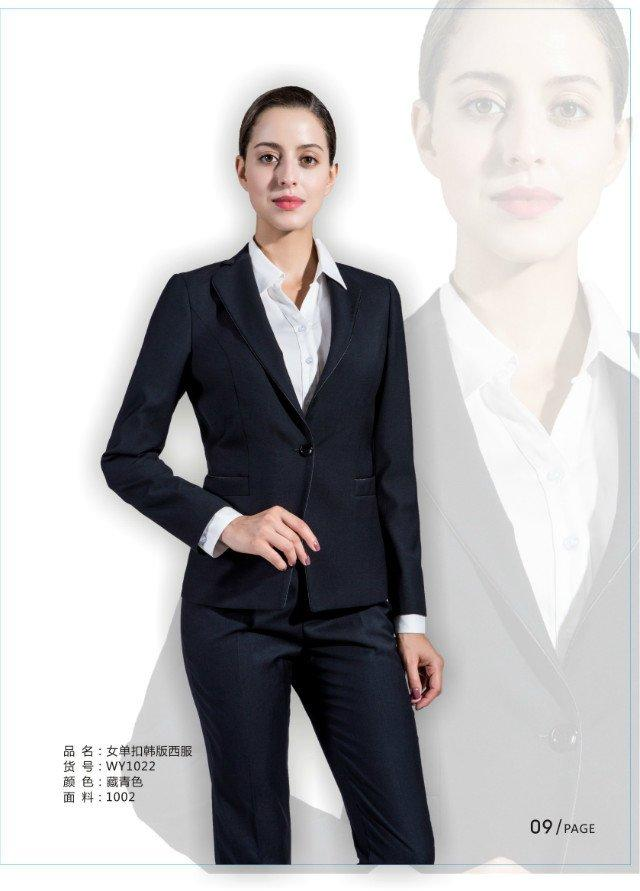F_W_suit jacket: (97, 253, 498, 608)
F_shirt: (245, 231, 353, 403)
